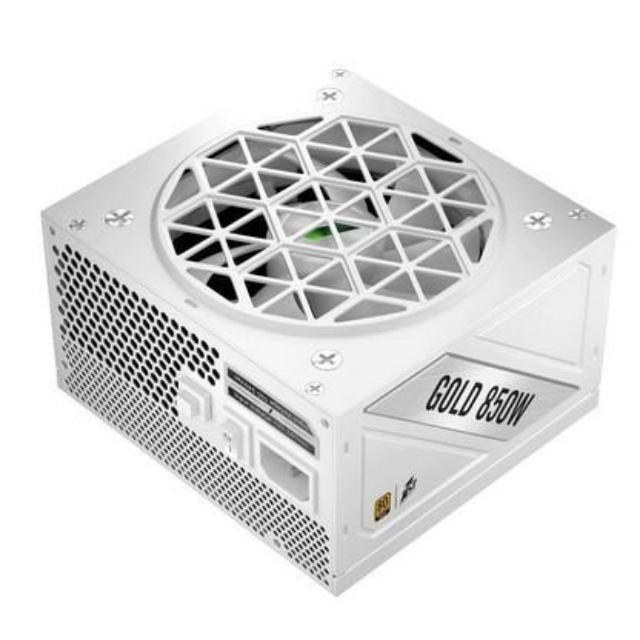PSU: (34, 49, 623, 614)
